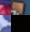lifeC: (0, 0, 11, 15)
